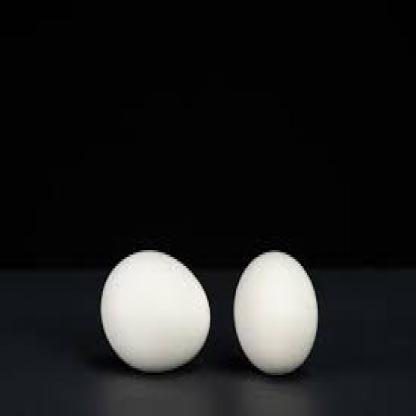egg: (102, 250, 210, 374), (233, 250, 318, 375)
